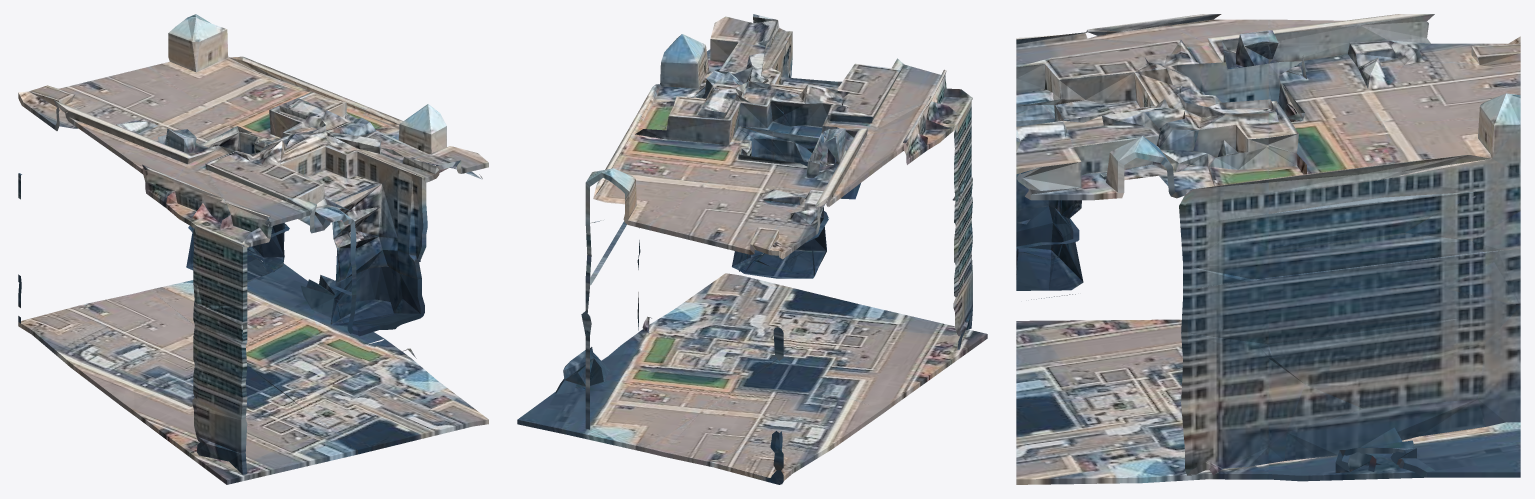
File: chunk_6_-5.glb
The picture shows the model from 3 angles, left to right: view 1: azimuth 30°, elevation 25°; view 2: azimuth 150°, elevation 25°; view 3: azimuth 270°, elevation 25°; orthographic projection. The views are drawn at different scales.
Parts seen in each view (by area): view 1: hero-chunk; view 2: hero-chunk; view 3: hero-chunk.
Part boxes in pixels (left/top/right/bottom): hero-chunk: left=18, top=14, right=488, bottom=484; hero-chunk: left=517, top=14, right=987, bottom=484; hero-chunk: left=1016, top=14, right=1520, bottom=484.
Bounding box in the file's own units: 56.35 × 57.45 × 76.33.
2 materials, 2 textured.
